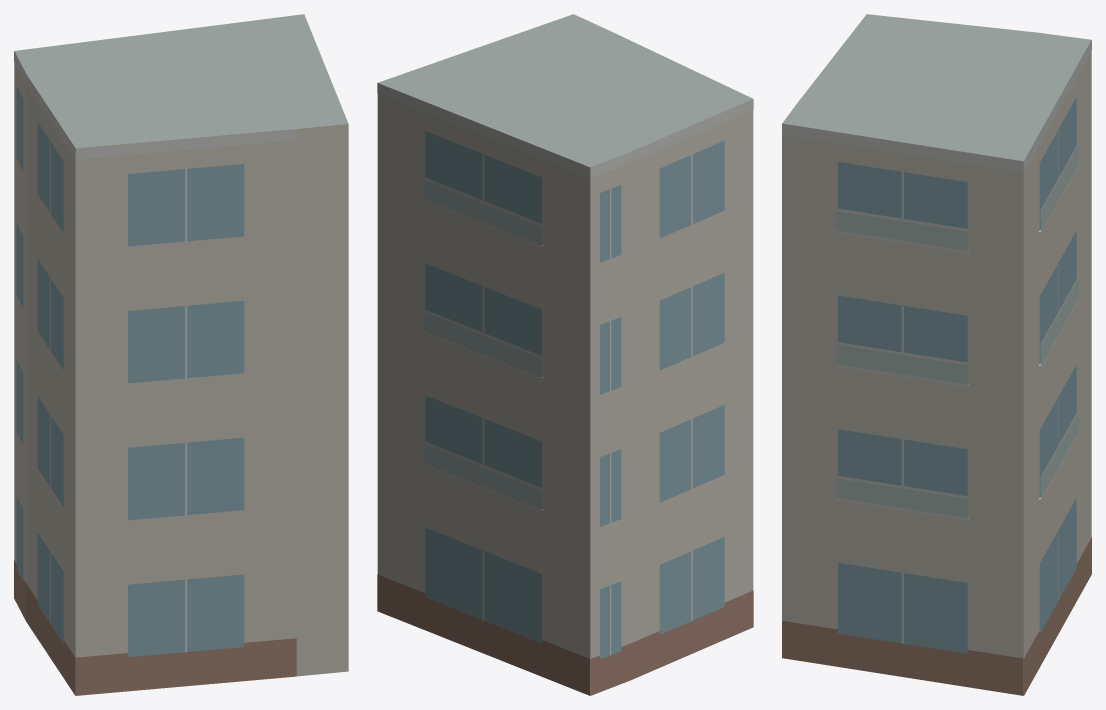
File: survey-upis-32475582.glb
The picture shows the model from 3 angles, left to right: view 1: azimuth 30°, elevation 25°; view 2: azimuth 150°, elevation 25°; view 3: azimuth 270°, elevation 25°; orthographic projection. The views are drawn at different scales.
Visible parts, largest first — view 1: survey-upis-32475582.tmp; view 2: survey-upis-32475582.tmp; view 3: survey-upis-32475582.tmp.
Boxes of the visible parts, box(x1,y1,x2,y2) form: survey-upis-32475582.tmp: box(14, 14, 348, 695); survey-upis-32475582.tmp: box(377, 14, 753, 695); survey-upis-32475582.tmp: box(782, 14, 1091, 695).
Size of the model in its own units: 7.04 by 11.9 by 6.25.
